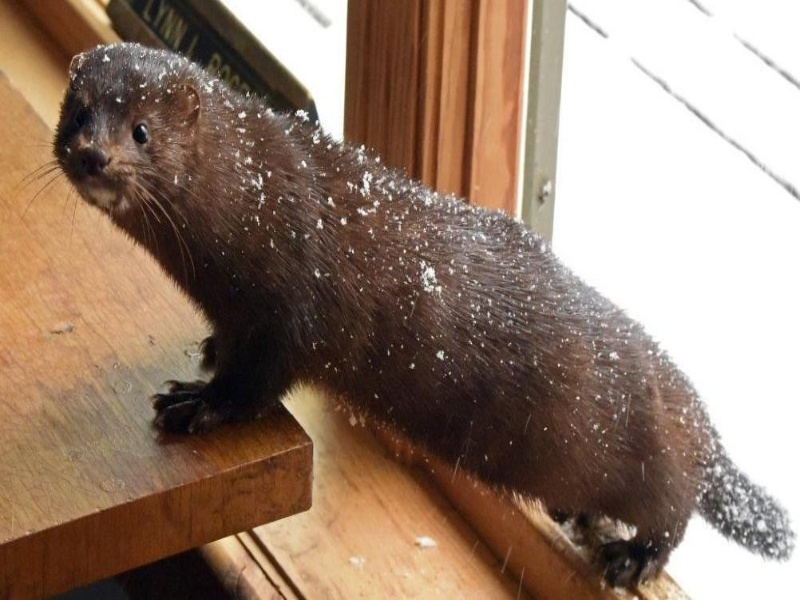minkish: (53, 40, 798, 591)
